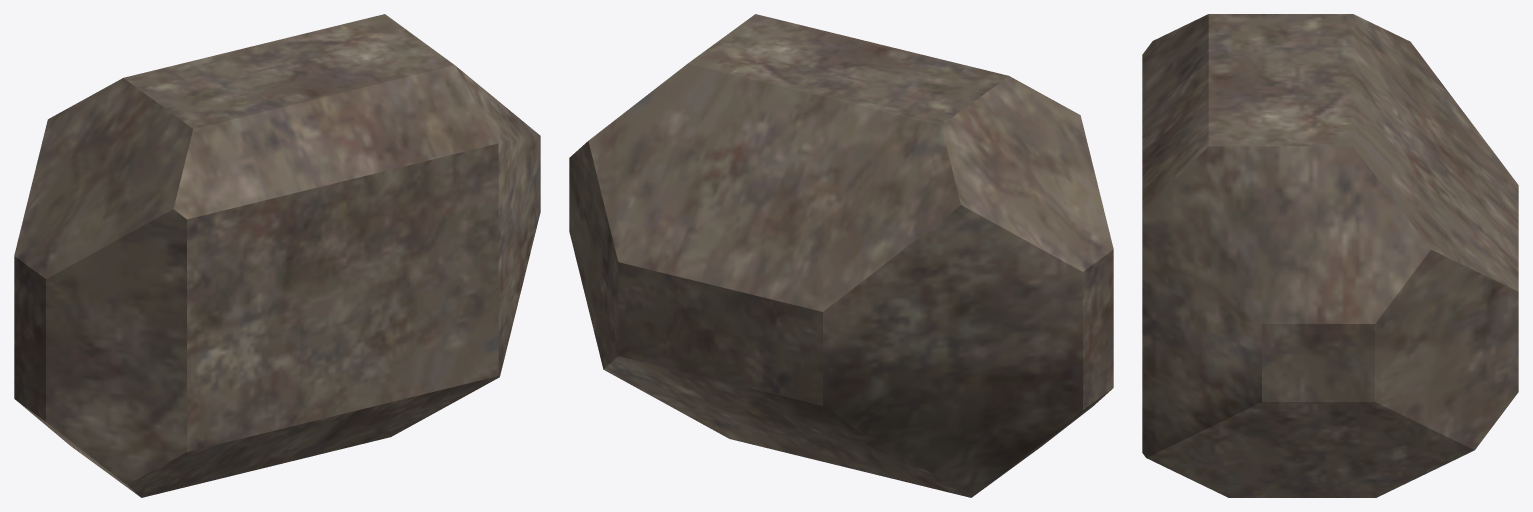
File: Shinobu_Spl_Rock1.fbx
3 views of the same model, side by side, from view 1: azimuth 30°, elevation 25°; view 2: azimuth 150°, elevation 25°; view 3: azimuth 270°, elevation 25° (orthographic). The views are drawn at different scales.
Visible parts, largest first — view 1: SM_d_e_P0011_V00_C00_SplTwm_Rock_01; view 2: SM_d_e_P0011_V00_C00_SplTwm_Rock_01; view 3: SM_d_e_P0011_V00_C00_SplTwm_Rock_01.
Part boxes in pixels (x1,y1,x2,y2): SM_d_e_P0011_V00_C00_SplTwm_Rock_01: [14, 14, 540, 497]; SM_d_e_P0011_V00_C00_SplTwm_Rock_01: [569, 14, 1113, 497]; SM_d_e_P0011_V00_C00_SplTwm_Rock_01: [1142, 14, 1518, 497].
Size of the model in its own units: 170 by 119 by 107.
